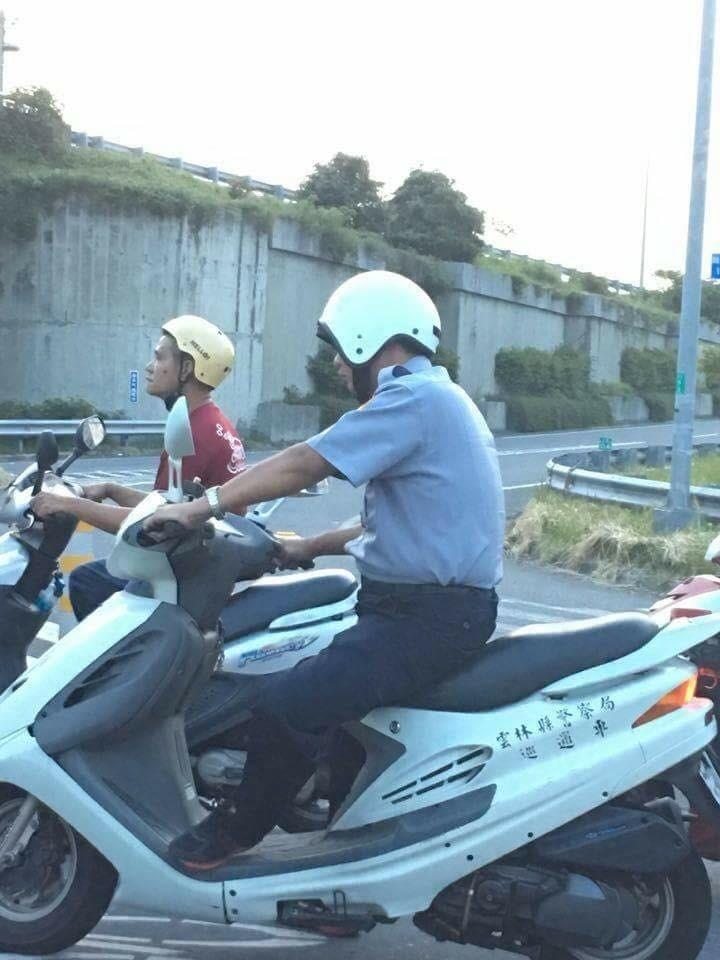helmet: (322, 268, 445, 370), (150, 312, 238, 392)
no_wear: (356, 387, 511, 597), (189, 413, 241, 497)
